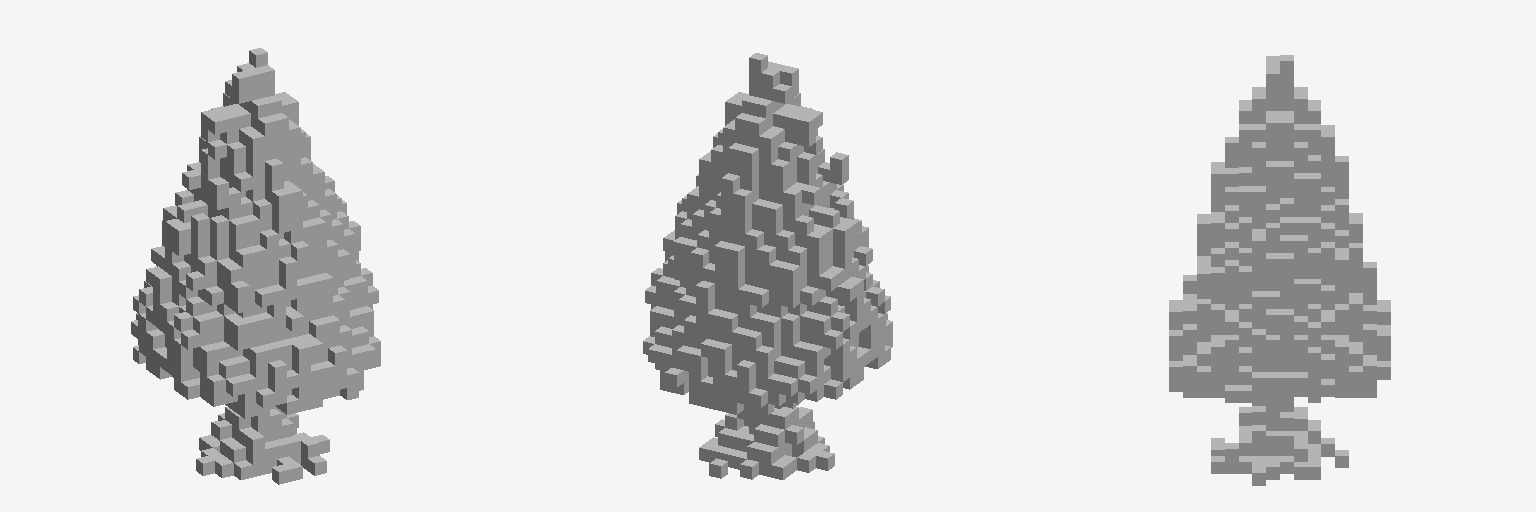
The model's file is tree_1.obj.
The picture shows the model from 3 angles: view 1: azimuth 30°, elevation 25°; view 2: azimuth 150°, elevation 25°; view 3: azimuth 270°, elevation 25°; orthographic projection.
Parts seen in each view (by area): view 1: object 1; view 2: object 1; view 3: object 1.
Part boxes in pixels (left/top/right/bottom): object 1: left=131, top=48, right=380, bottom=484; object 1: left=643, top=53, right=892, bottom=479; object 1: left=1169, top=55, right=1390, bottom=485.
Size of the model in its own units: 1.6 by 3.2 by 1.6.